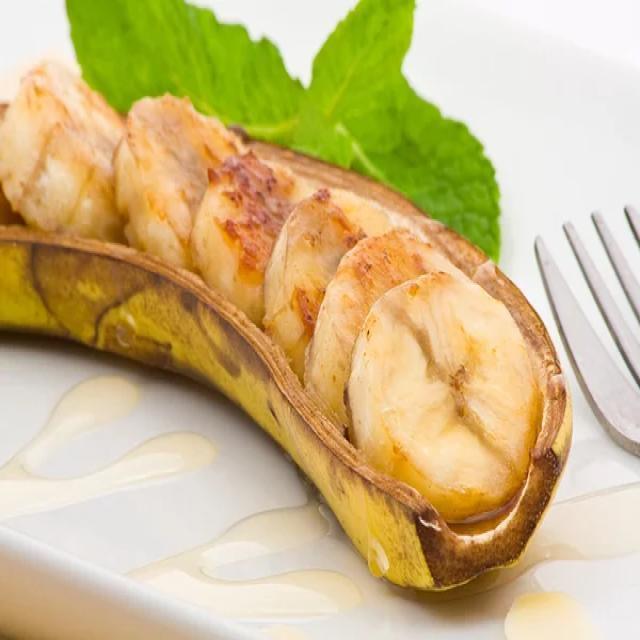platano: (0, 43, 580, 599)
